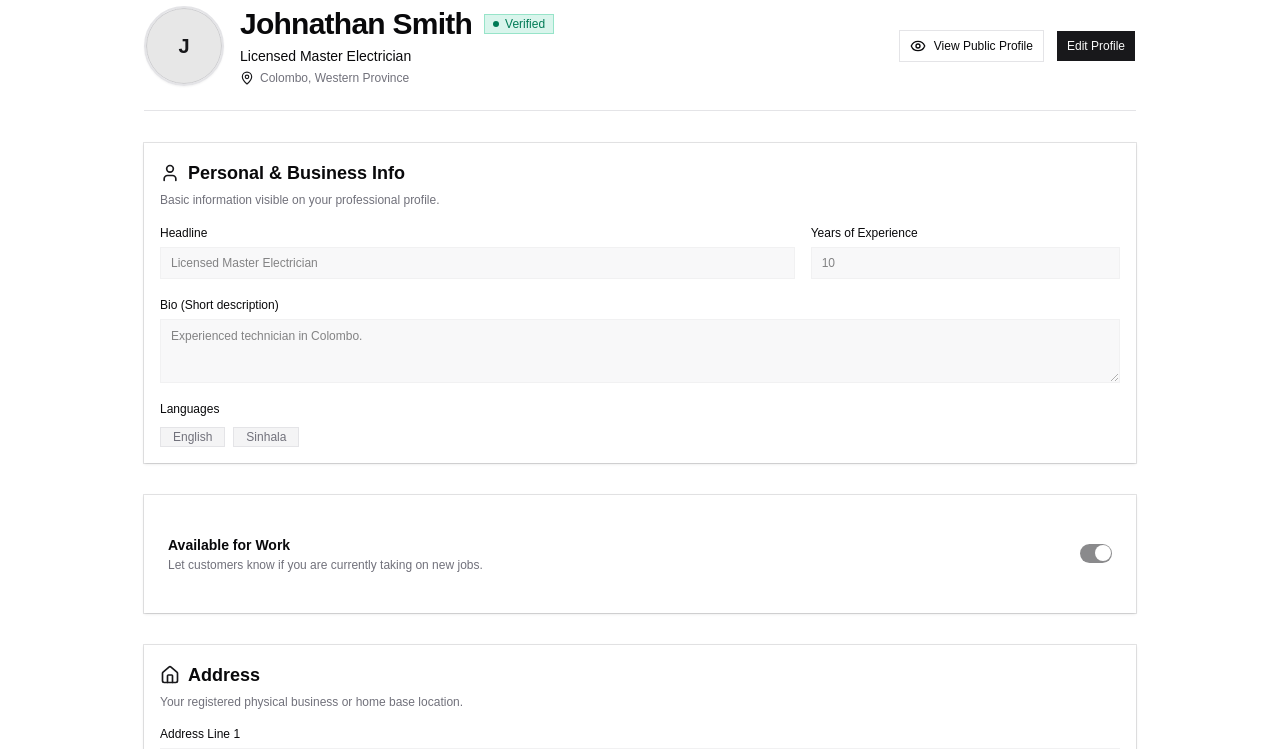
ProviderProfile Component › shows only selected service categories when viewing, and reveals all when editing
Check: the text "Plumbing" is not shown
Check: the text "Carpentry" is not shown
// Click Edit Profile
Click the button "Edit Profile" at (1096,46), box [1056, 30, 1136, 62]
(page scrolled)
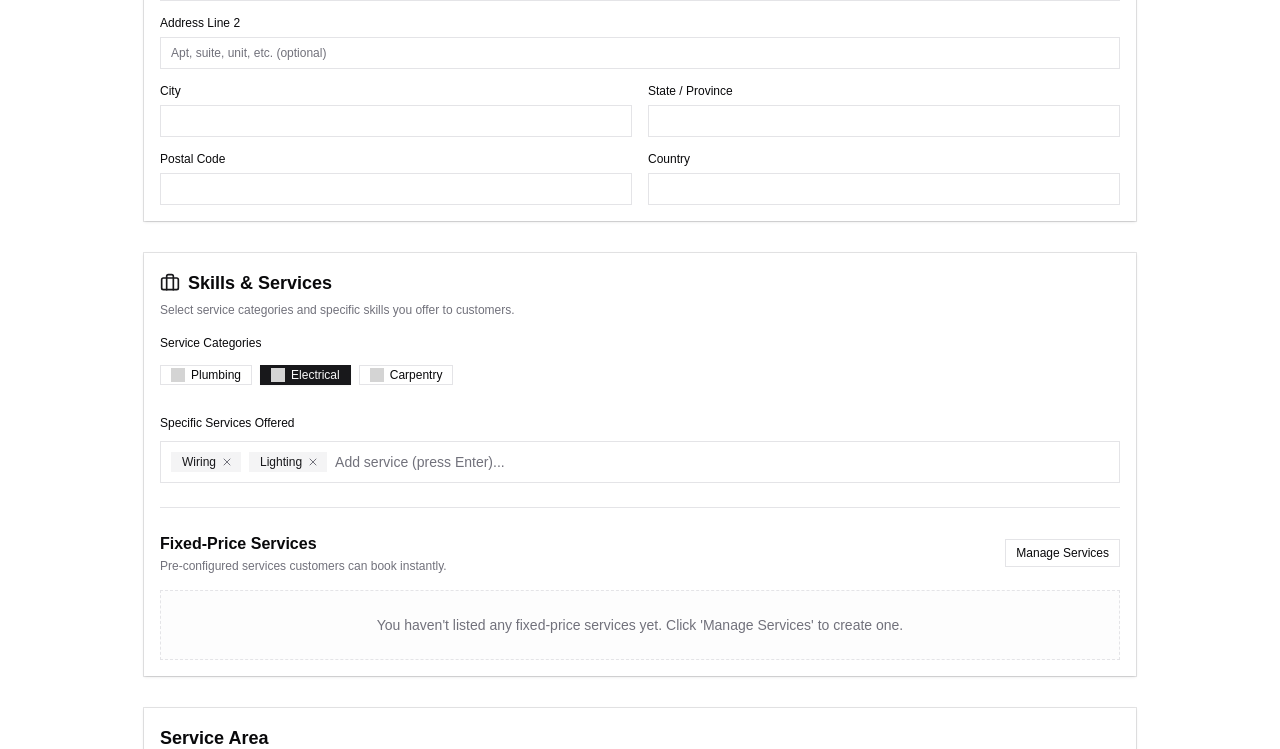
Check: the button "Electrical" is shown, box [260, 364, 351, 384]
Check: the button "Plumbing" is shown, box [160, 364, 252, 384]
Check: the button "Carpentry" is shown, box [359, 364, 453, 384]
